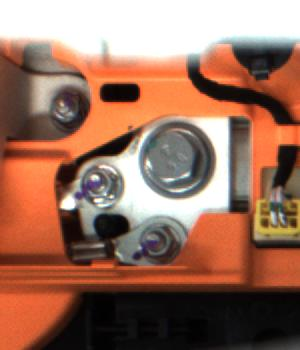nut_b: (136, 112, 222, 206)
